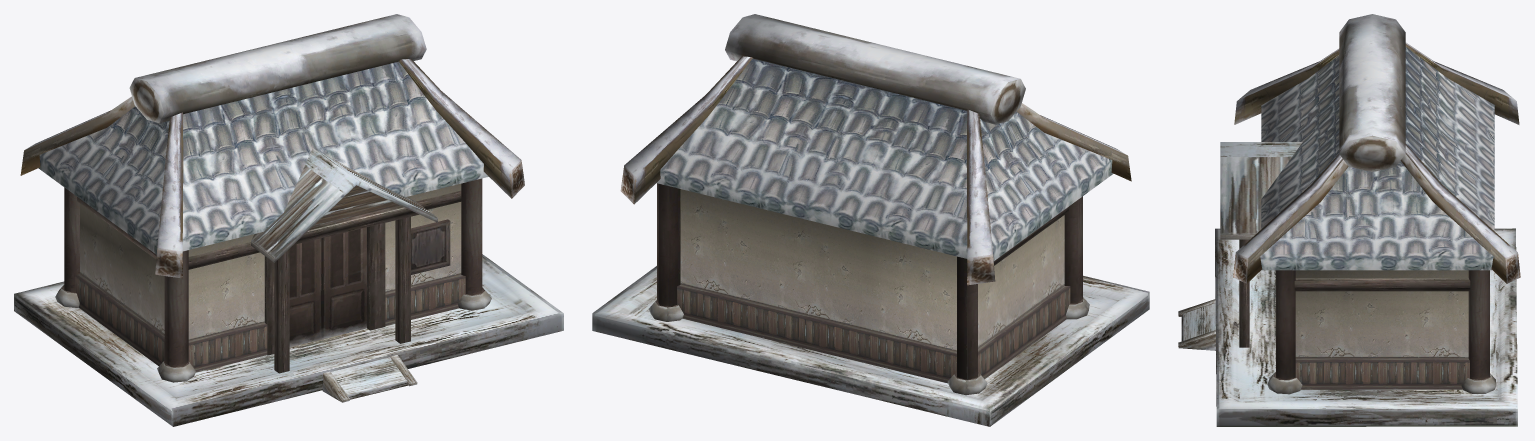
File: SM_House_05.fbx
3 views of the same model, side by side, from view 1: azimuth 30°, elevation 25°; view 2: azimuth 150°, elevation 25°; view 3: azimuth 270°, elevation 25° (orthographic). The views are drawn at different scales.
Parts seen in each view (by area): view 1: SM_House_05; view 2: SM_House_05; view 3: SM_House_05.
Boxes of the visible parts, x1,y1,x2,y2 form: SM_House_05: (14, 14, 563, 426); SM_House_05: (592, 14, 1149, 426); SM_House_05: (1178, 14, 1520, 426).
Bounding box in the file's own units: 6.1 × 4.04 × 4.85.
